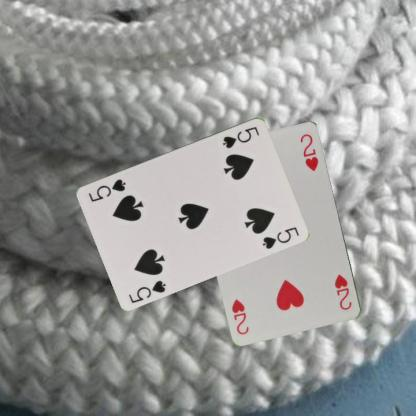2h: (332, 272, 354, 312)
5s: (126, 277, 168, 304), (220, 123, 261, 150)
